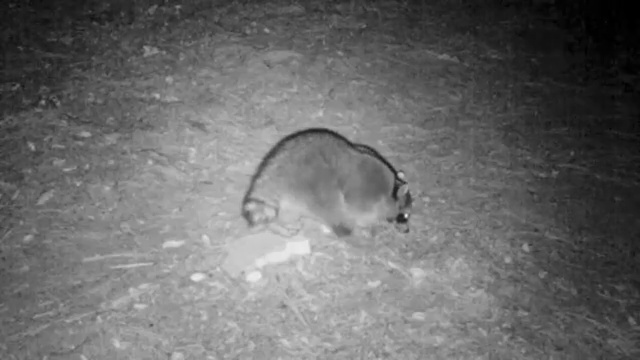raccoon: (238, 126, 417, 242)
